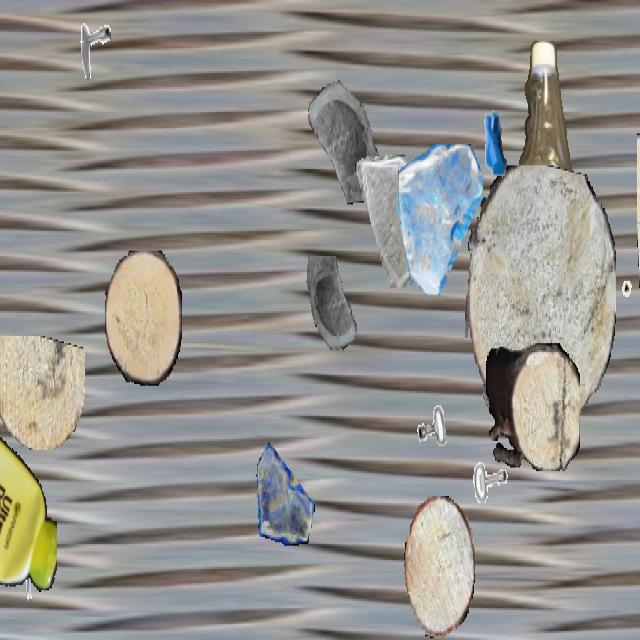glass: (398, 144, 482, 293), (298, 57, 380, 203), (354, 155, 428, 286), (303, 256, 365, 366), (256, 441, 314, 544)
metal: (403, 347, 463, 453), (466, 91, 522, 190), (470, 453, 516, 535), (11, 535, 55, 613), (69, 4, 111, 78), (618, 278, 640, 348)
plastic: (498, 41, 580, 393), (0, 393, 57, 599)
wood: (465, 166, 615, 436), (486, 343, 580, 471), (105, 250, 181, 386), (404, 496, 474, 638), (0, 336, 85, 450), (637, 128, 640, 316)
